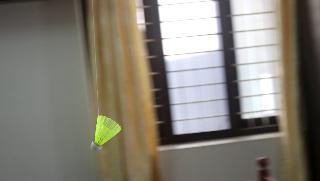shuttlecock: (90, 114, 122, 150)
